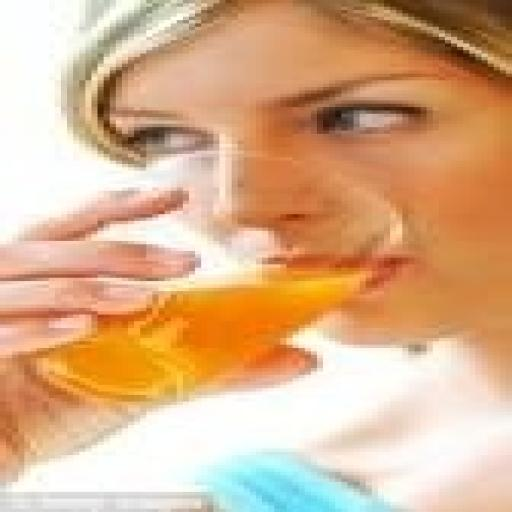drinking: (18, 40, 512, 405)
